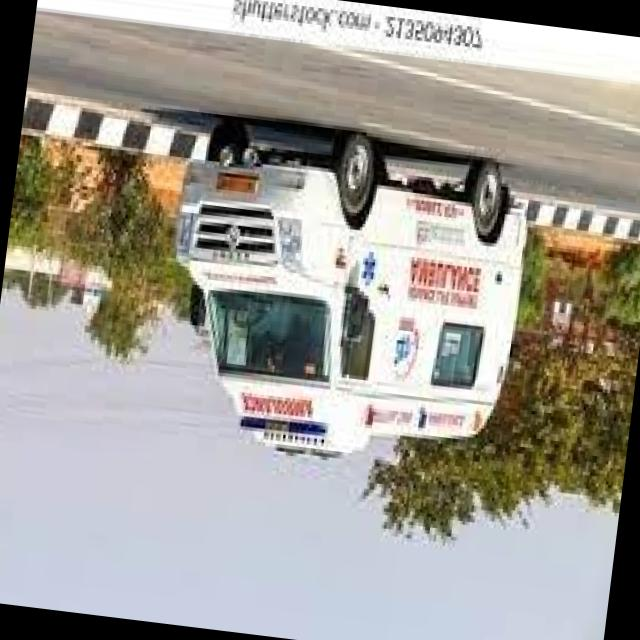ambulance: (150, 130, 540, 484)
